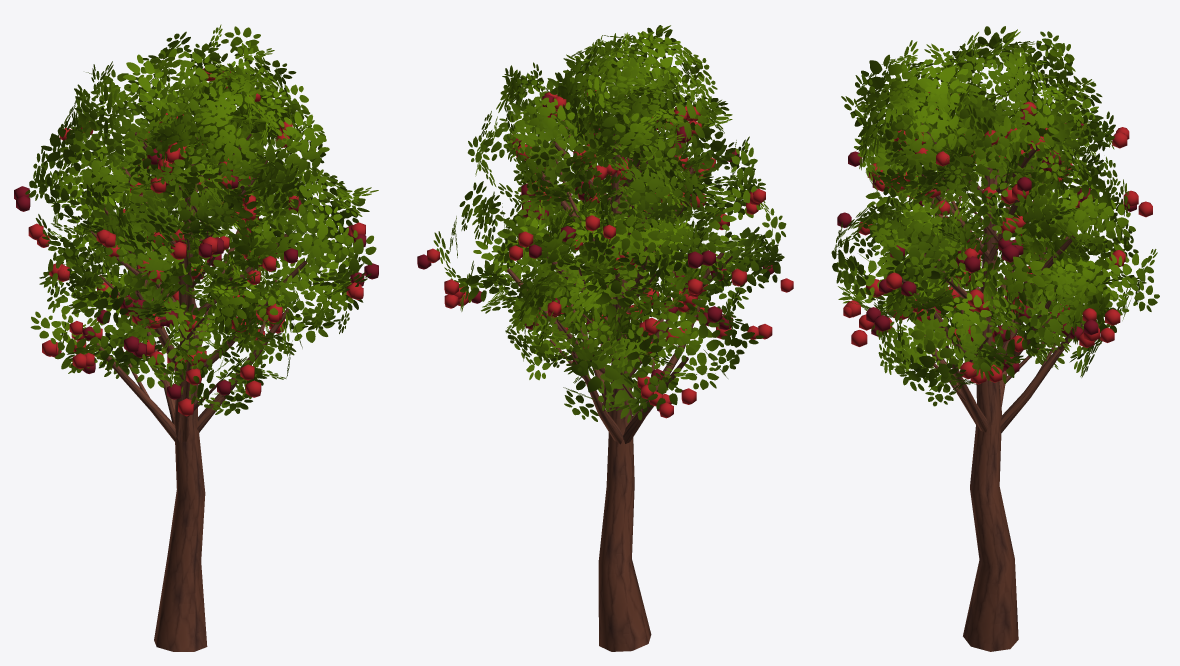
The model's file is fruit_tree_fruits.gltf.
3 renders of one model, left to right at view 1: azimuth 30°, elevation 25°; view 2: azimuth 150°, elevation 25°; view 3: azimuth 270°, elevation 25°, orthographic. The views are drawn at different scales.
Parts seen in each view (by area): view 1: fruit_tree_fruits; view 2: fruit_tree_fruits; view 3: fruit_tree_fruits.
Part boxes in pixels (x1=…): fruit_tree_fruits: x1=14, y1=24, x2=378, y2=651; fruit_tree_fruits: x1=417, y1=25, x2=793, y2=651; fruit_tree_fruits: x1=831, y1=26, x2=1159, y2=651.
Size of the model in its own units: 5.18 by 9.42 by 4.74.
4 materials, 2 textured.
